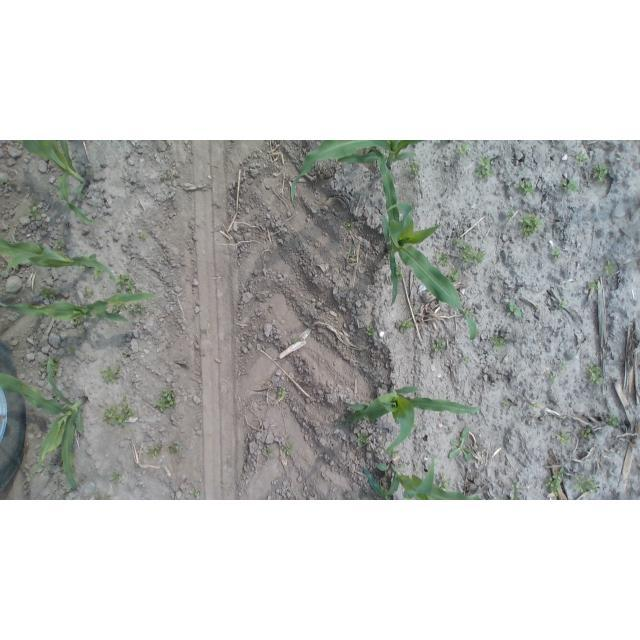Maize: (374, 153, 479, 343), (1, 358, 88, 492), (289, 141, 433, 216), (342, 385, 482, 456), (17, 141, 104, 231), (1, 238, 120, 286), (2, 290, 159, 326), (362, 456, 490, 500)
Weeds: (448, 428, 474, 463), (454, 238, 486, 265), (103, 401, 133, 428), (544, 467, 566, 498), (518, 214, 542, 238), (156, 388, 179, 413), (474, 157, 494, 182), (574, 476, 600, 495), (586, 363, 606, 385), (100, 365, 123, 384), (116, 275, 137, 294), (560, 177, 580, 195), (507, 298, 524, 318), (592, 164, 609, 183), (518, 180, 535, 197), (555, 428, 571, 446), (39, 285, 59, 299), (407, 162, 422, 179), (189, 479, 203, 497), (26, 204, 40, 222), (492, 334, 507, 350), (434, 252, 450, 267), (579, 425, 595, 440), (146, 443, 163, 457), (398, 317, 415, 331), (437, 476, 454, 490), (431, 339, 447, 353), (604, 259, 616, 277), (606, 413, 620, 428), (357, 432, 371, 447), (576, 151, 589, 167), (108, 471, 122, 485), (189, 486, 203, 499), (131, 305, 146, 317), (281, 442, 293, 457), (169, 442, 183, 454), (50, 359, 61, 374), (449, 268, 460, 283), (458, 141, 469, 156), (92, 268, 105, 280), (587, 278, 599, 291), (550, 248, 562, 261), (112, 302, 125, 314), (555, 299, 567, 311), (396, 265, 405, 281), (277, 386, 288, 398), (365, 326, 375, 339), (54, 240, 67, 250), (65, 344, 76, 355), (263, 446, 274, 457), (344, 220, 356, 230), (82, 288, 94, 298), (98, 493, 114, 500), (557, 361, 568, 371), (138, 231, 149, 241), (506, 208, 515, 220), (549, 372, 557, 385), (73, 318, 84, 327), (22, 478, 30, 490), (502, 397, 511, 407), (461, 355, 471, 364), (392, 450, 401, 459), (401, 460, 408, 471), (348, 252, 357, 260), (160, 173, 168, 182), (200, 326, 208, 334), (290, 338, 298, 345), (466, 309, 474, 316), (529, 405, 535, 411)
